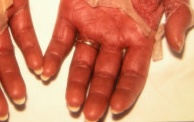SJS-TEN: (60, 0, 194, 65), (0, 0, 32, 43)
